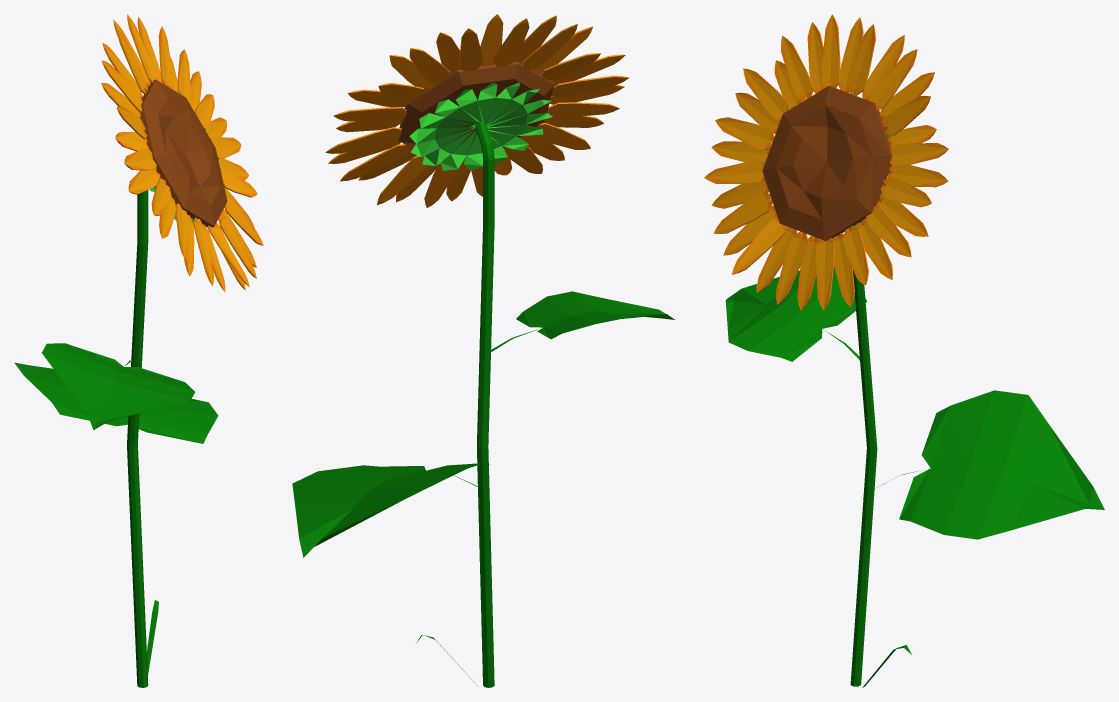
The model's file is sunflower.fbx.
3 renders of one model, left to right at view 1: azimuth 30°, elevation 25°; view 2: azimuth 150°, elevation 25°; view 3: azimuth 270°, elevation 25°, orthographic. The views are drawn at different scales.
Visible parts, largest first — view 1: Component1_1, Component3_2, skpC653_1, Component3_1, Component23, Component22, Component3, Component32, Component24, Component5, Component2, Component16 (+16 smaller); view 2: Component3_1, skpC653_1, Component1_1, Component3_2, Component16, Component9, Component17, Component8, Component19, Component7, Component25, Component13 (+17 smaller); view 3: Component3_1, Component1_1, Component3_2, skpC653_1, Component22, Component32, Component5, Component29, Component30, Component23, Component28, Component3 (+23 smaller).
Boxes of the visible parts, x1,y1,x2,y2 form: Component1_1: (140,79,227,227); Component3_2: (42,343,194,430); skpC653_1: (125,190,148,687); Component3_1: (14,362,218,443); Component23: (193,217,214,286); Component22: (218,213,256,278); Component3: (127,14,157,83); Component32: (101,60,142,111); Component24: (158,26,173,88); Component5: (207,225,249,287); Component2: (117,29,147,94); Component16: (128,169,160,194); Component3_1: (292,463,489,557); skpC653_1: (454,120,538,687); Component1_1: (398,61,554,159); Component3_2: (516,291,674,339); Component16: (551,75,629,97); Component9: (325,127,401,153); Component17: (340,144,411,181); Component8: (333,107,406,122); Component19: (547,102,619,117); Component7: (522,24,577,70); Component25: (377,155,427,205); Component13: (493,18,529,67); Component3_1: (899,390,1104,539); Component1_1: (762,86,892,240); Component3_2: (725,266,867,361); skpC653_1: (824,270,919,686); Component22: (776,231,808,304); Component32: (821,14,840,88); Component5: (731,218,786,274); Component29: (715,117,774,150); Component30: (781,35,813,101); Component23: (713,192,772,233); Component28: (815,238,834,310); Component3: (869,49,917,109).
Size of the model in its own units: 0.3595 by 0.9316 by 0.5189.
